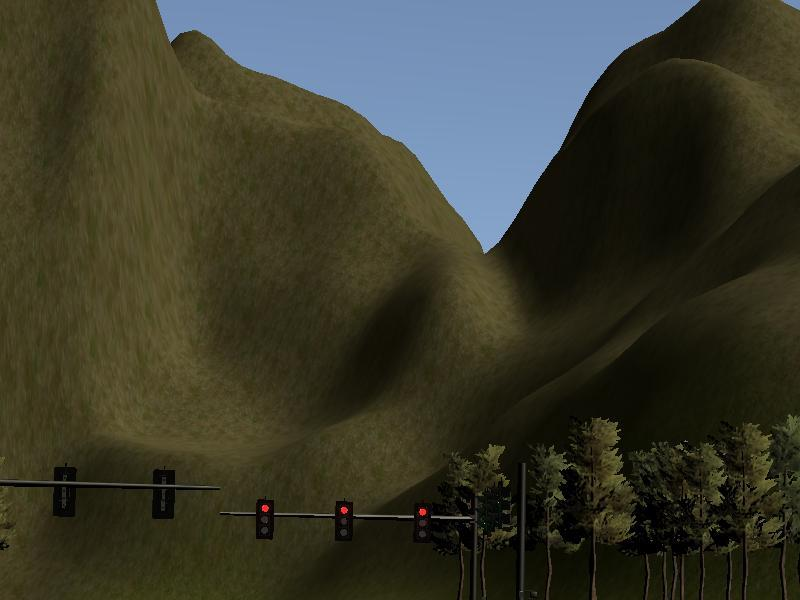Red: (256, 499, 274, 539), (336, 501, 353, 540), (416, 505, 430, 542)
